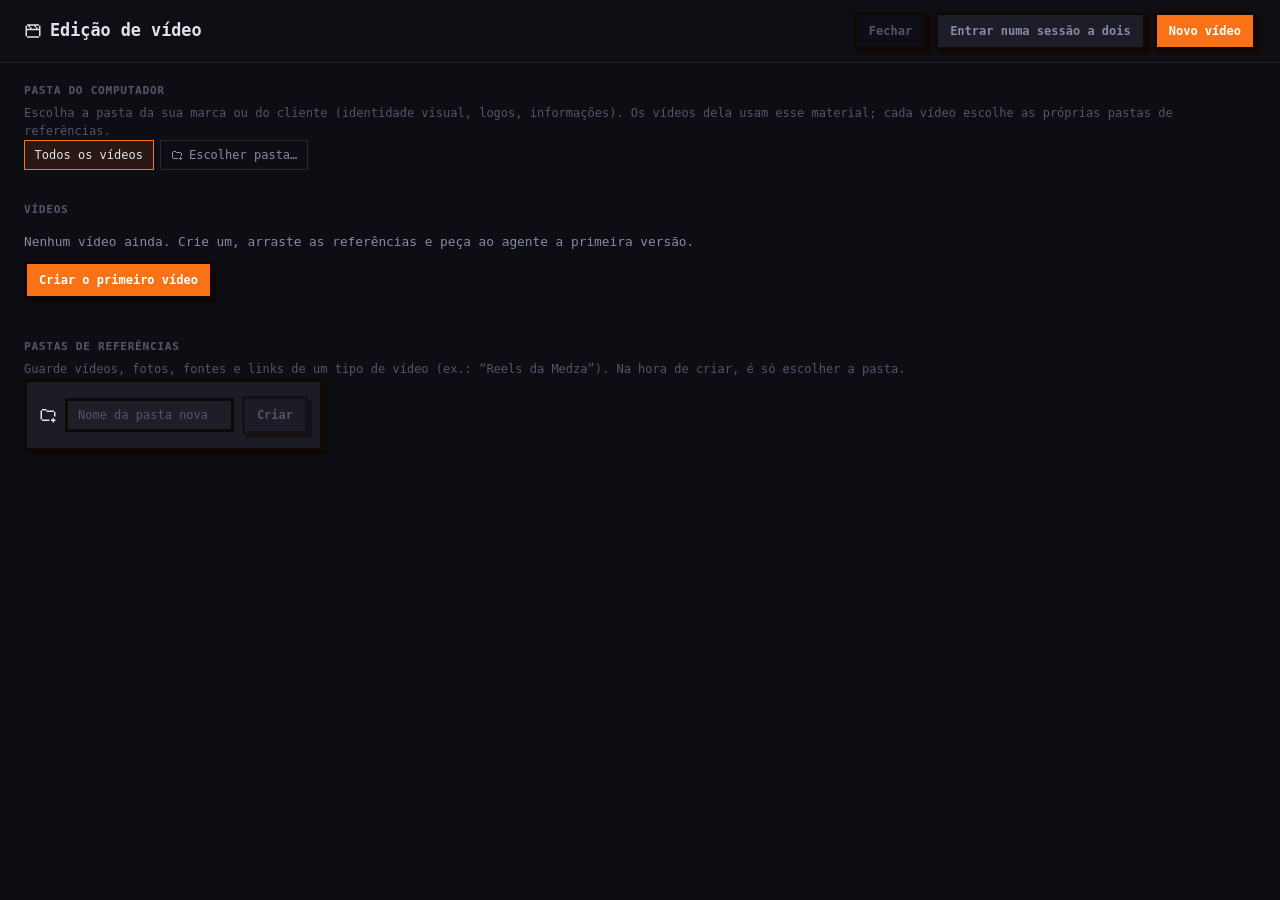
Test: Edição de vídeo › cria um vídeo com briefing e referências e abre o editor
Click the button "Criar o primeiro vídeo" at (118, 280), box 24,261 -> 213,299
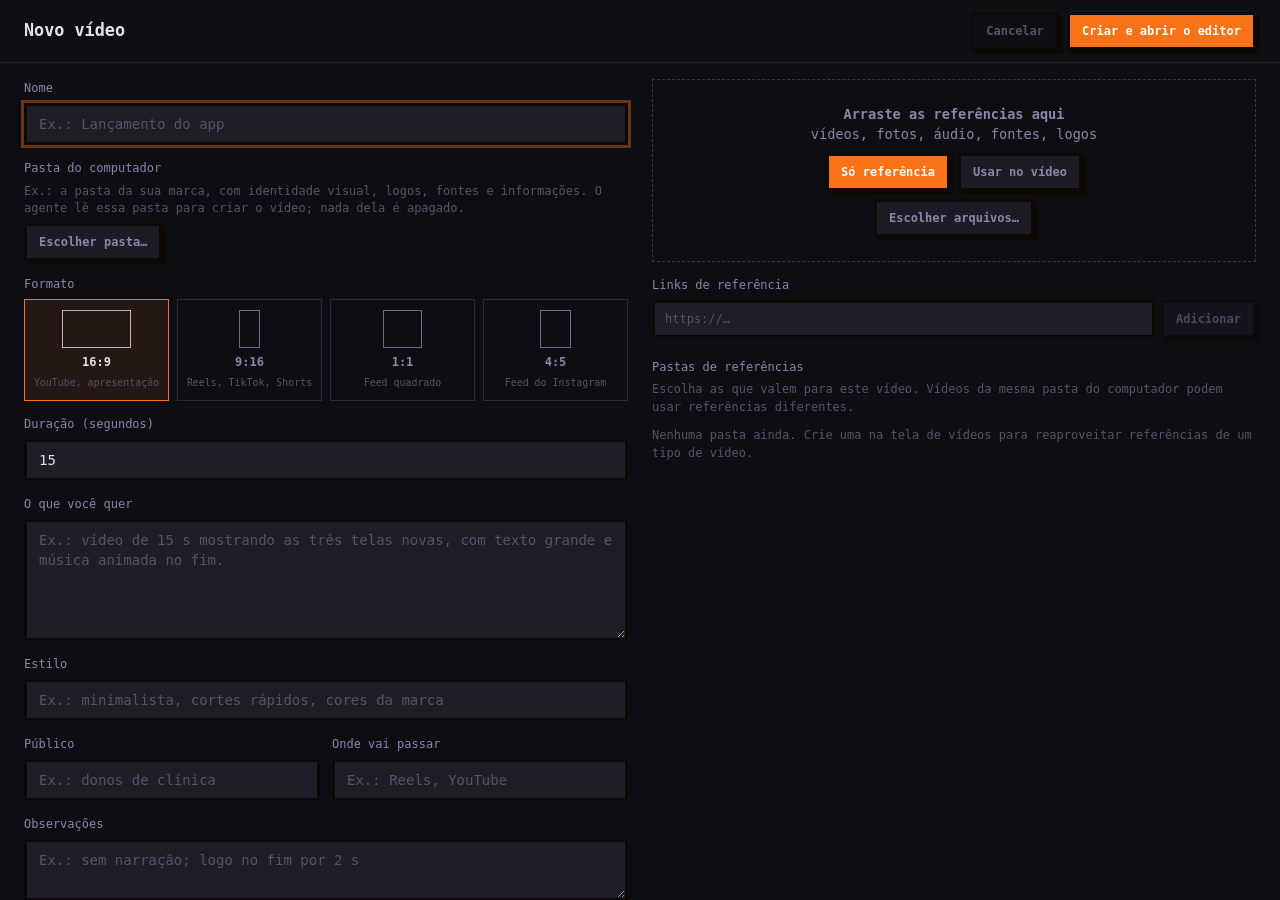
Type "Promo <nova>" into the field with placeholder "Ex.: Lançamento do app" at (326, 124), box 24,103 -> 628,145
Click the radio button labelled "9:16 Reels, TikTok, Shorts" at (250, 350), box 177,299 -> 322,401
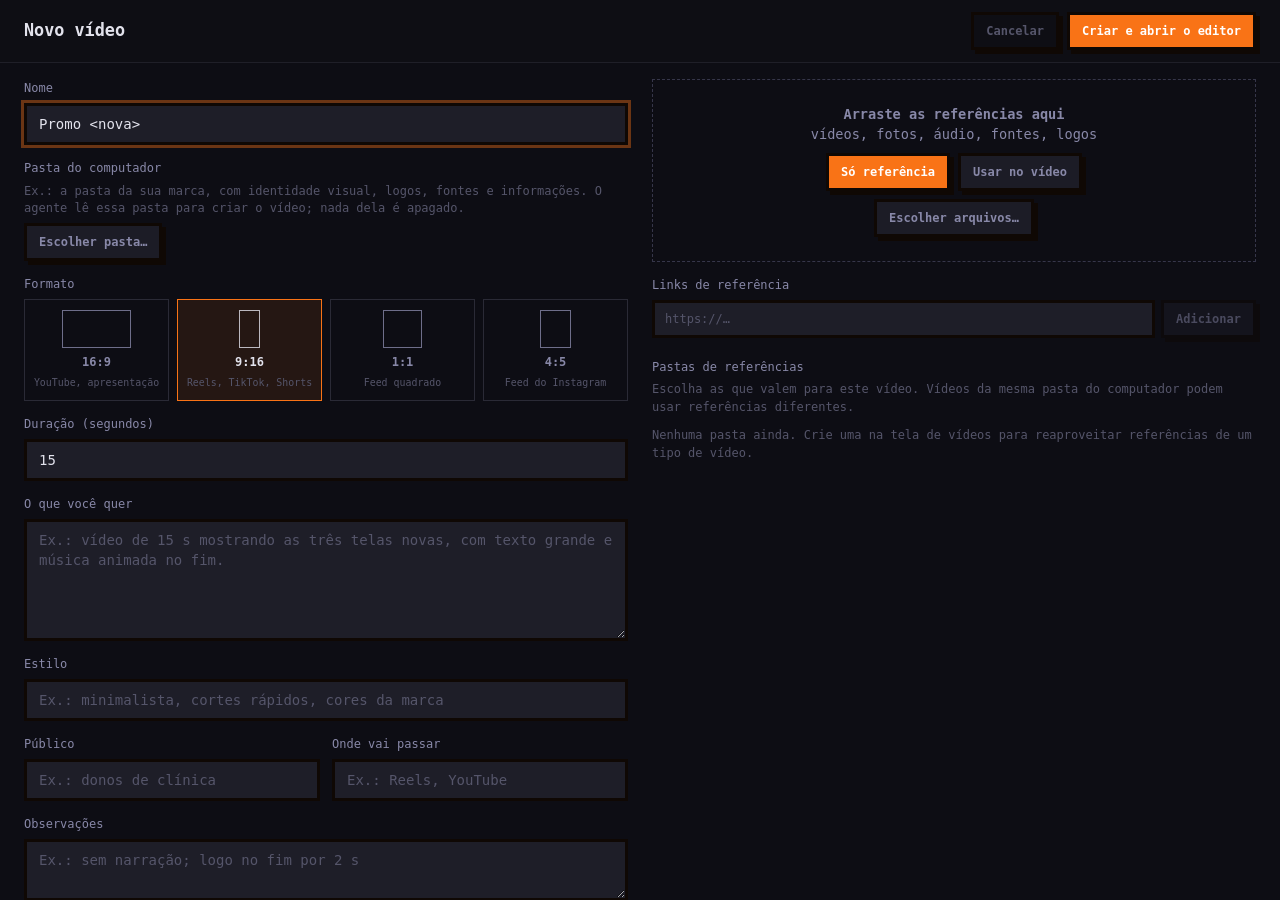
Replace the text in the text box with placeholder "vídeo de 15 s" with "Mostrar as três telas novas" at (326, 580), box 24,519 -> 628,641
Click the button "Escolher arquivos…" at (954, 218), box 874,199 -> 1034,237
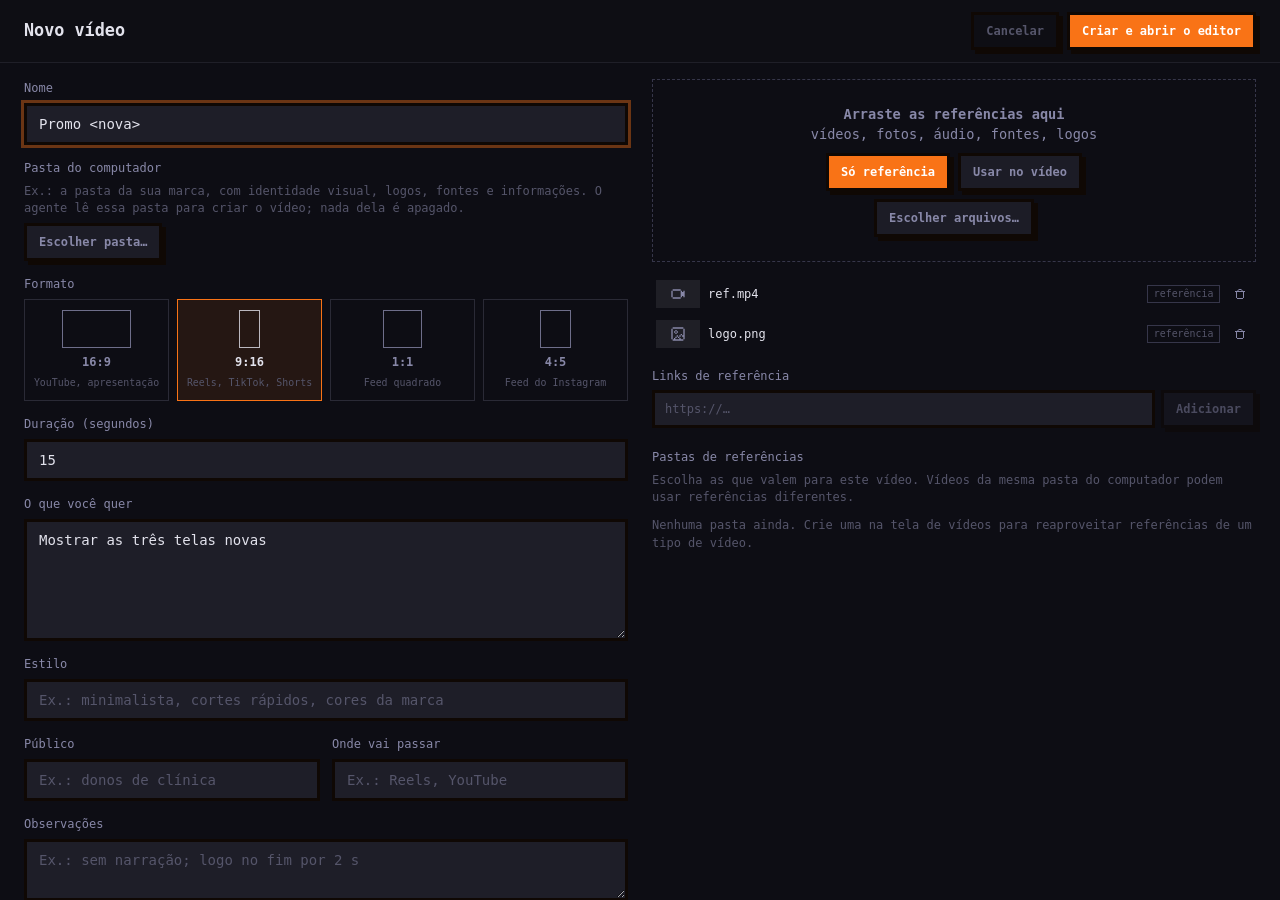
Expected: the text "ref.mp4" is shown, 708,287 -> 759,301
Type "https://exemplo.com/referencia" into the field with placeholder "https://…" at (904, 409), box 652,390 -> 1155,428
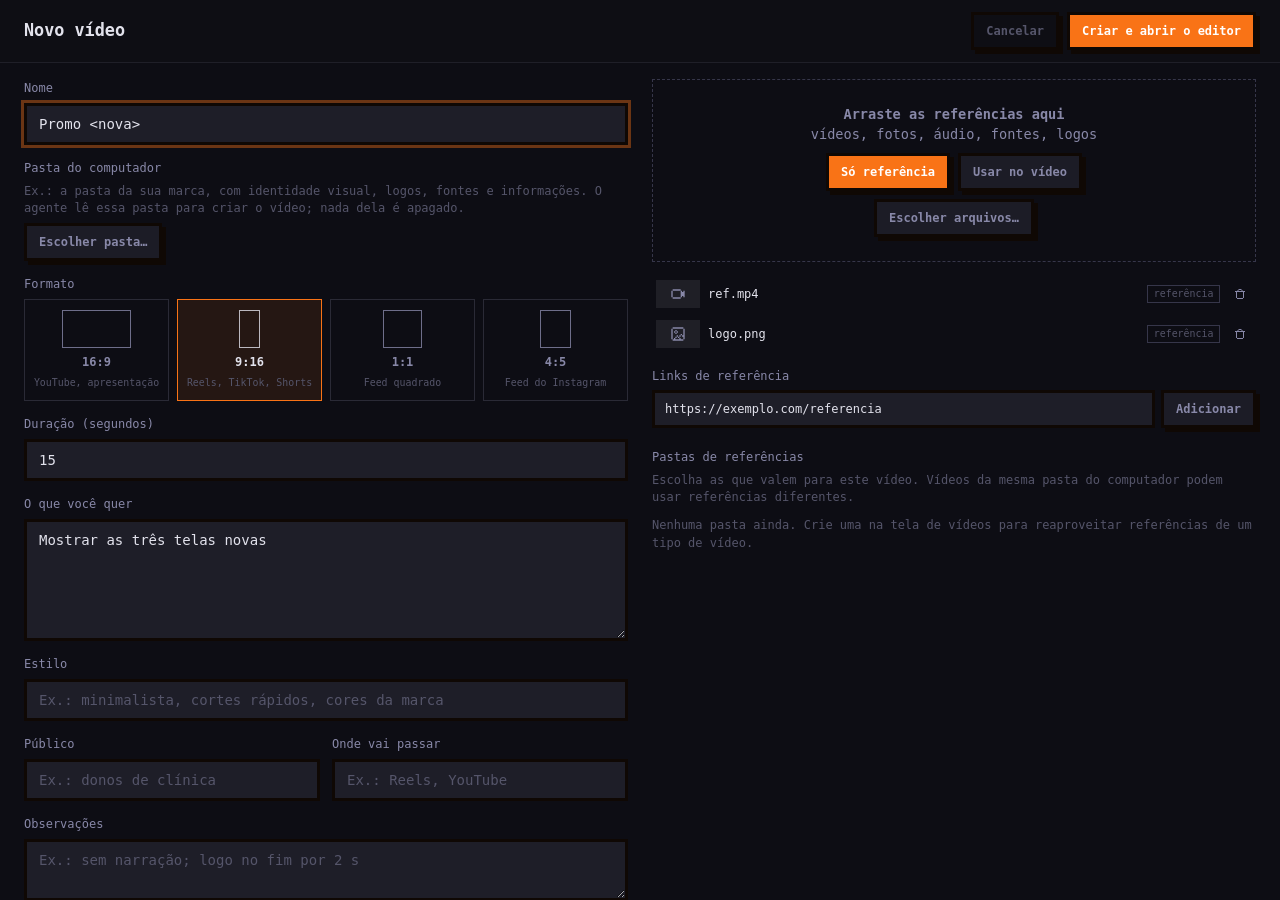
Click the button "Adicionar" at (1208, 409), box 1161,390 -> 1256,428
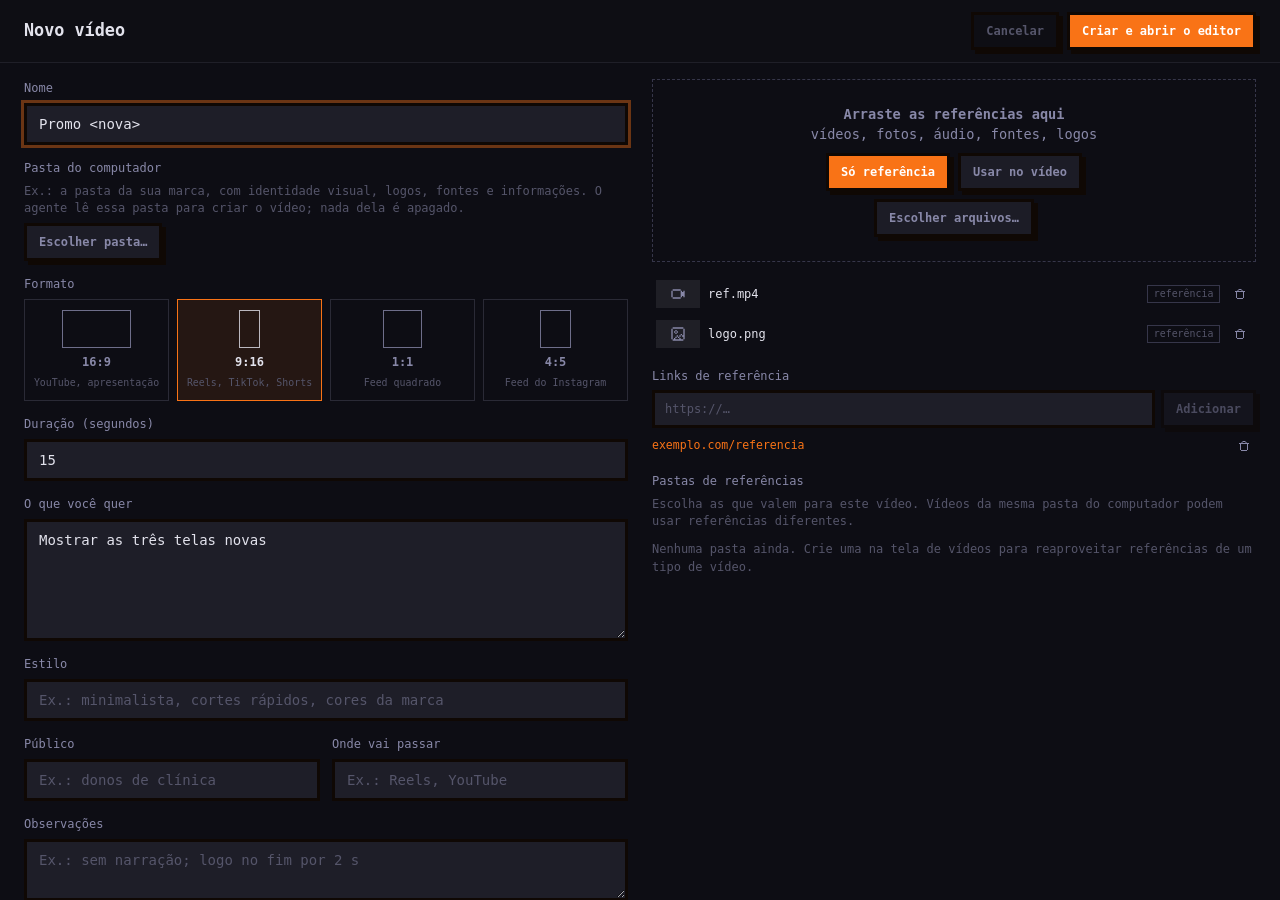
Click the button "Criar e abrir o editor" at (1162, 31), box 1067,12 -> 1256,50
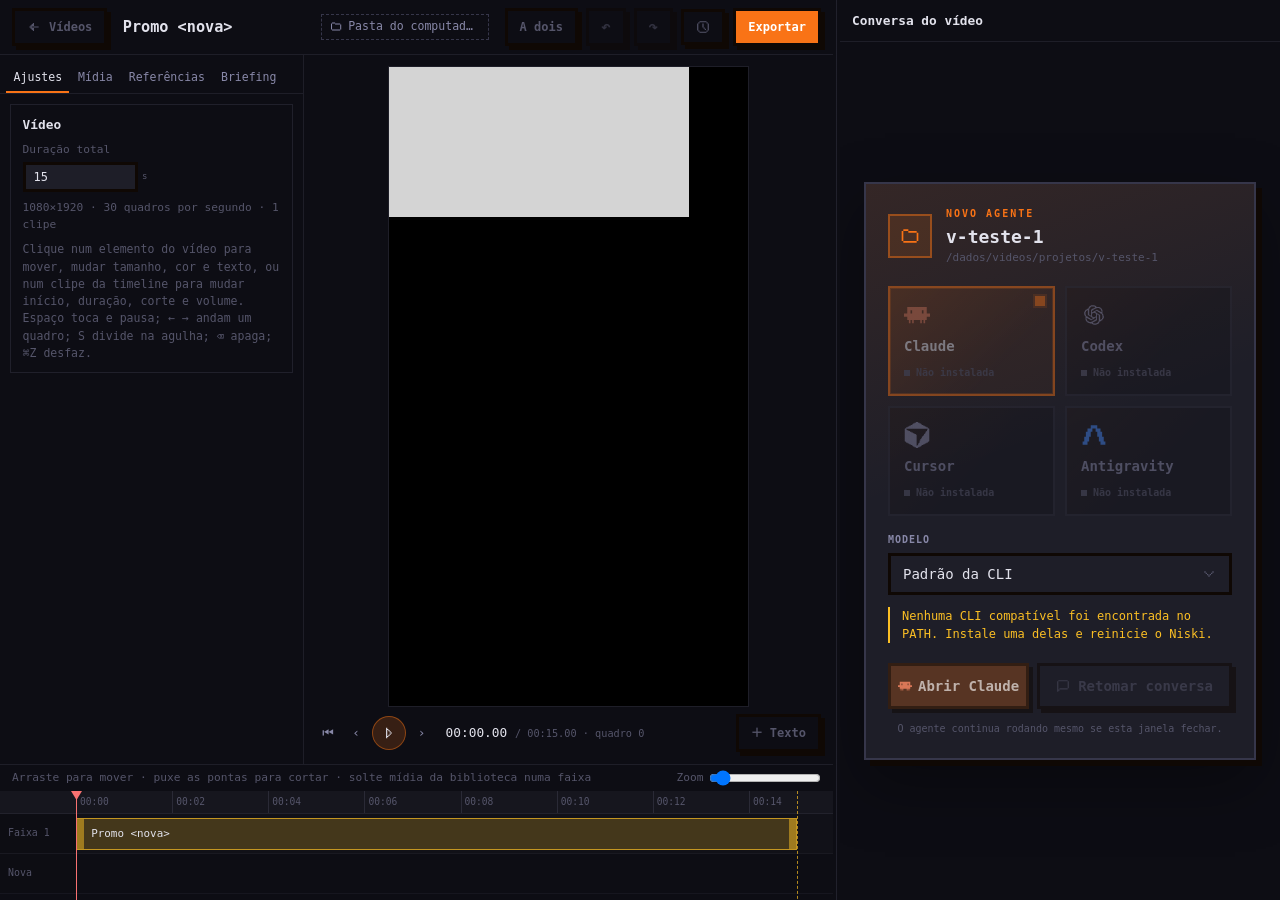
Expected: the element named "Timeline" is shown, 0,765 -> 833,899
